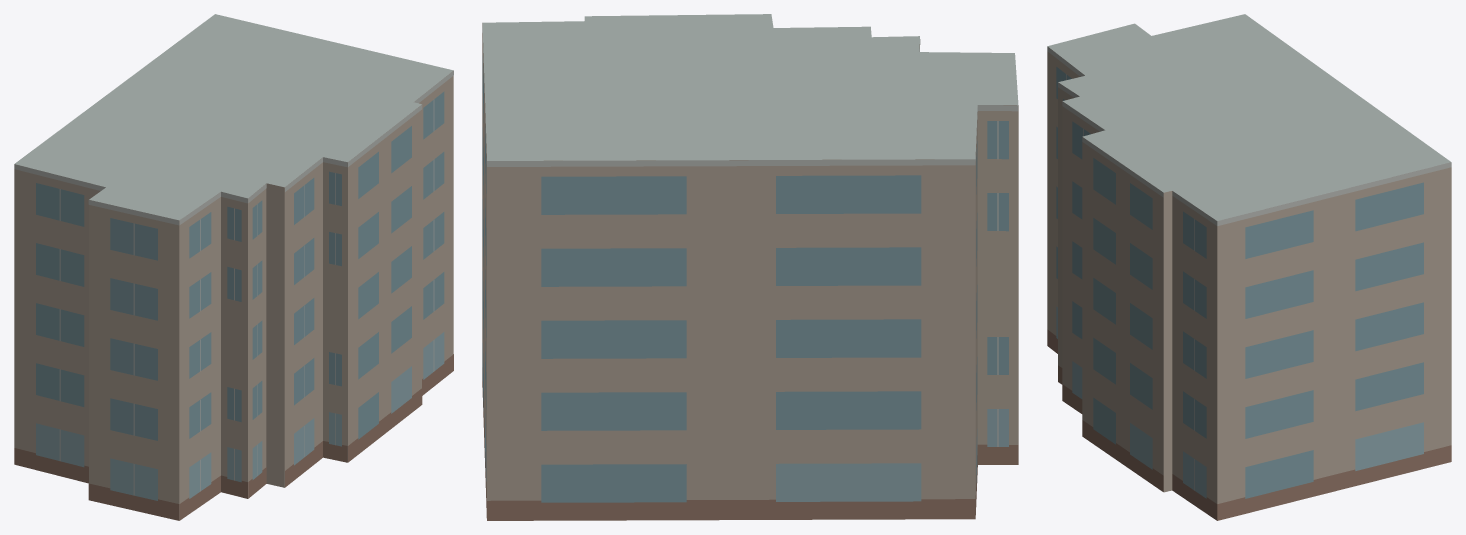
File: survey-upis-32690961.glb
3 views of the same model, side by side, from view 1: azimuth 30°, elevation 25°; view 2: azimuth 150°, elevation 25°; view 3: azimuth 270°, elevation 25° (orthographic). The views are drawn at different scales.
Visible parts, largest first — view 1: survey-upis-32690961.tmp; view 2: survey-upis-32690961.tmp; view 3: survey-upis-32690961.tmp.
Part boxes in pixels (bbox=[...]): survey-upis-32690961.tmp: bbox=[14, 14, 453, 520]; survey-upis-32690961.tmp: bbox=[482, 14, 1018, 520]; survey-upis-32690961.tmp: bbox=[1047, 14, 1451, 520].
Bounding box in the file's own units: 21.5 × 14.5 × 17.73.
